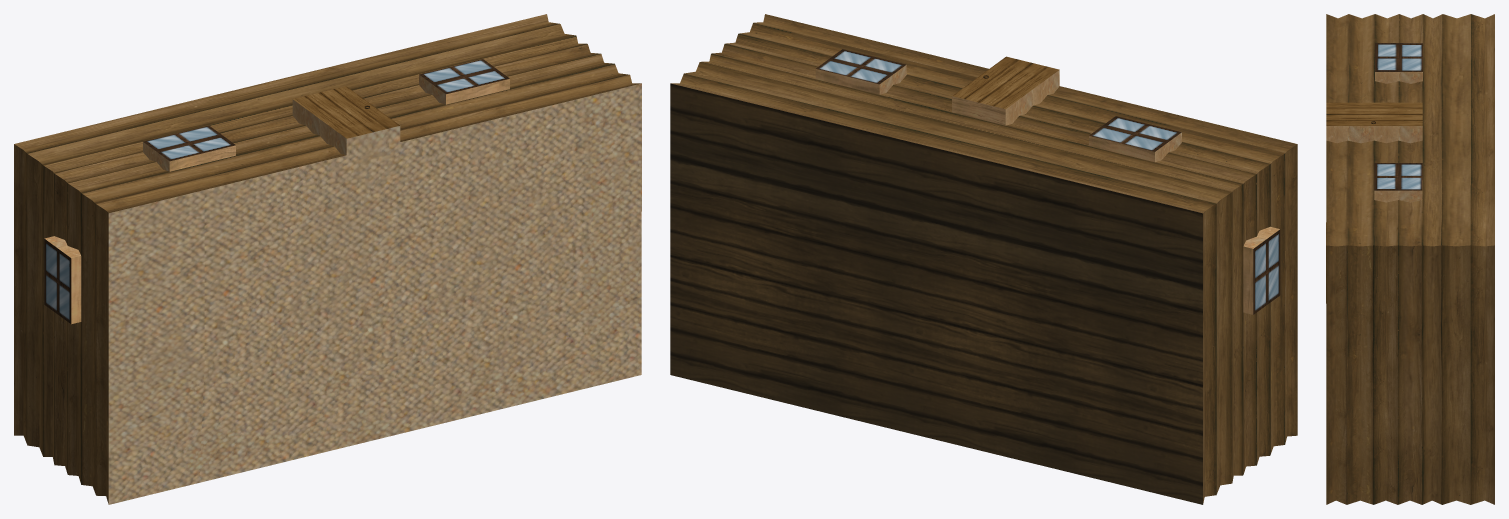
Rendered from Interior_Log_House_D.fbx.
The picture shows the model from 3 angles, left to right: view 1: azimuth 30°, elevation 25°; view 2: azimuth 150°, elevation 25°; view 3: azimuth 270°, elevation 25°; orthographic projection. The views are drawn at different scales.
Visible parts, largest first — view 1: Interior_Log_House_D; view 2: Interior_Log_House_D; view 3: Interior_Log_House_D.
Part boxes in pixels (x1,y1,x2,y2): Interior_Log_House_D: (14,14,641,504); Interior_Log_House_D: (670,14,1297,504); Interior_Log_House_D: (1326,14,1494,504).
Size of the model in its own units: 109 by 61.5 by 33.11.
